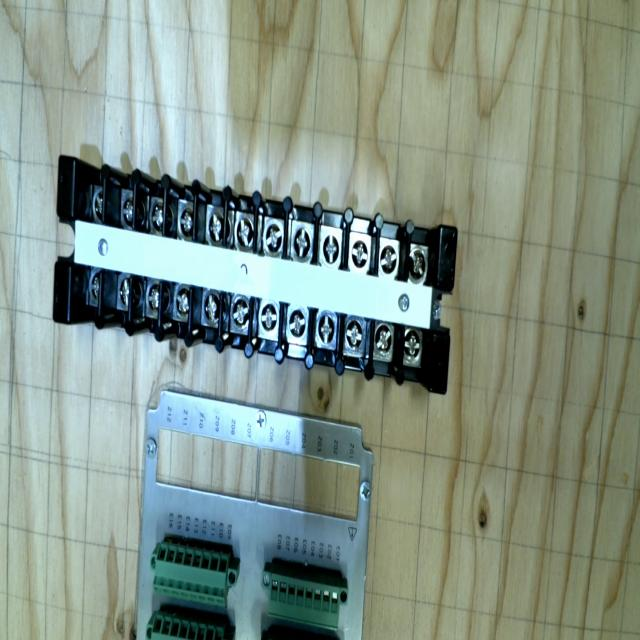Phillips_Block: (30, 154, 476, 394)
Terminal_2: (150, 543, 234, 607)
